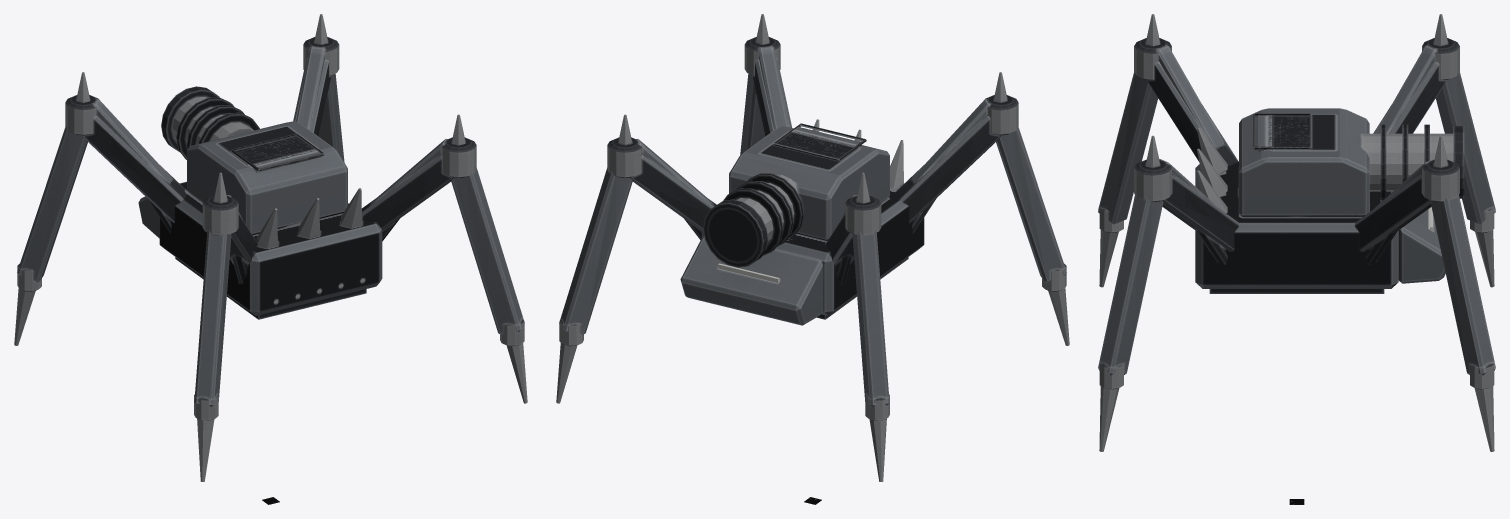
The model's file is chs_ravener.fbx.
The picture shows the model from 3 angles, left to right: view 1: azimuth 30°, elevation 25°; view 2: azimuth 150°, elevation 25°; view 3: azimuth 270°, elevation 25°; orthographic projection. The views are drawn at different scales.
Visible parts, largest first — view 1: torso_bar, base_bar, shinBR_bar, shinBL_bar, thighFL_bar, shinFL_bar, thighBR_bar, thighFR_bar, thighBL_bar, shinFR_bar; view 2: torso_bar, base_bar, shinFR_bar, shinFL_bar, thighBL_bar, shinBL_bar, thighFR_bar, thighBR_bar, thighFL_bar, shinBR_bar; view 3: base_bar, torso_bar, shinBR_bar, shinFR_bar, shinBL_bar, shinFL_bar, thighBL_bar, thighBR_bar, thighFR_bar, thighFL_bar.
Part boxes in pixels (bbox=[...]): torso_bar: bbox=[161, 86, 347, 234]; base_bar: bbox=[138, 182, 382, 319]; shinBR_bar: bbox=[451, 114, 527, 403]; shinBL_bar: bbox=[194, 172, 231, 481]; thighFL_bar: bbox=[65, 95, 188, 233]; shinFL_bar: bbox=[14, 72, 89, 345]; thighBR_bar: bbox=[362, 137, 476, 241]; thighFR_bar: bbox=[293, 37, 339, 136]; thighBL_bar: bbox=[202, 195, 257, 283]; shinFR_bar: bbox=[314, 14, 344, 162]; torso_bar: bbox=[703, 123, 889, 267]; base_bar: bbox=[680, 119, 924, 325]; shinFR_bar: bbox=[556, 114, 632, 403]; shinFL_bar: bbox=[852, 172, 889, 481]; thighBL_bar: bbox=[895, 95, 1018, 233]; shinBL_bar: bbox=[994, 72, 1069, 345]; thighFR_bar: bbox=[607, 137, 716, 239]; thighBR_bar: bbox=[744, 37, 791, 136]; thighFL_bar: bbox=[825, 195, 881, 283]; shinBR_bar: bbox=[740, 14, 769, 154]; base_bar: bbox=[1195, 127, 1445, 293]; torso_bar: bbox=[1239, 108, 1464, 216]; shinBR_bar: bbox=[1098, 135, 1163, 451]; shinFR_bar: bbox=[1430, 135, 1495, 451]; shinBL_bar: bbox=[1098, 14, 1159, 287]; shinFL_bar: bbox=[1434, 14, 1495, 287]; thighBL_bar: bbox=[1134, 38, 1238, 166]; thighBR_bar: bbox=[1134, 158, 1239, 264]; thighFR_bar: bbox=[1354, 158, 1459, 264]; thighFL_bar: bbox=[1373, 38, 1459, 133].
Size of the model in its own units: 547 by 647 by 547.
Materials: 2 (2 with a texture image).
